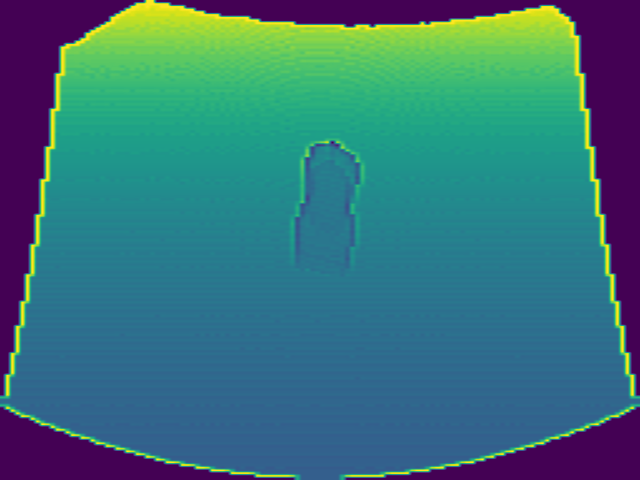car_0027: (289, 137, 366, 275)
